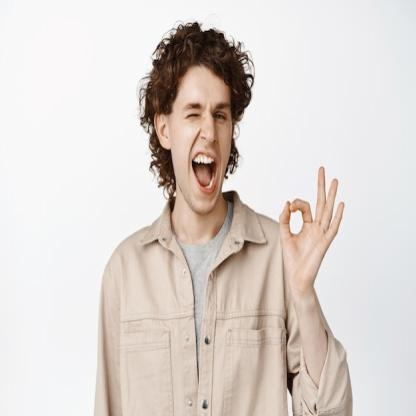ok: (277, 160, 347, 294)
